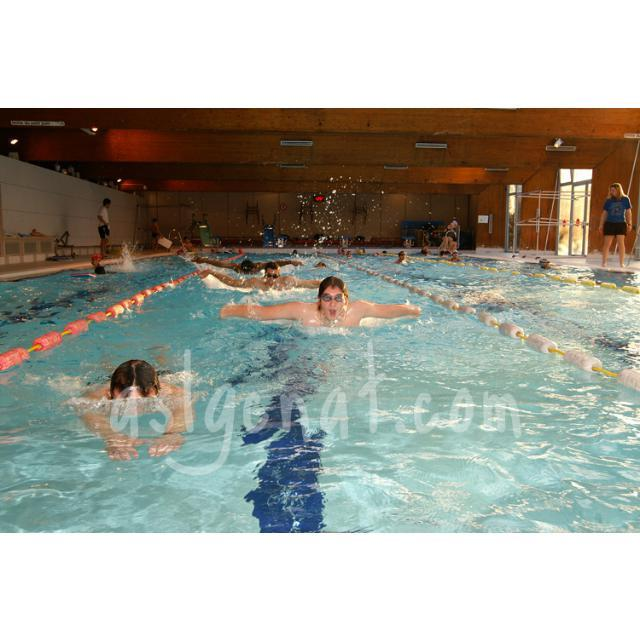human: (77, 354, 193, 458), (222, 276, 422, 335), (197, 266, 323, 289), (192, 253, 302, 271), (397, 246, 409, 263), (538, 257, 555, 269)
